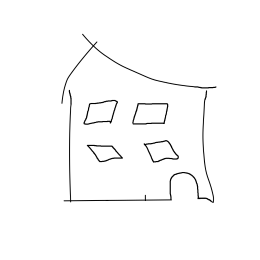door: (163, 168, 203, 209)
open_window: (81, 93, 122, 133), (130, 98, 171, 130), (84, 139, 128, 168), (145, 136, 183, 166)
single_line_roof: (50, 28, 234, 102)
wall: (60, 81, 217, 207)
